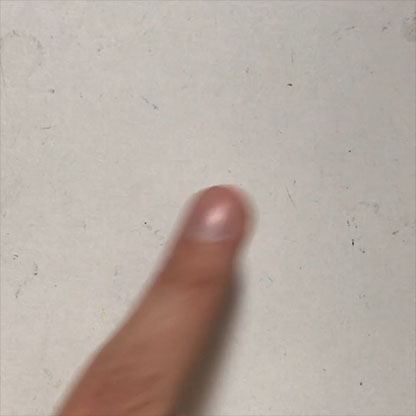fingertip: (181, 172, 256, 264)
